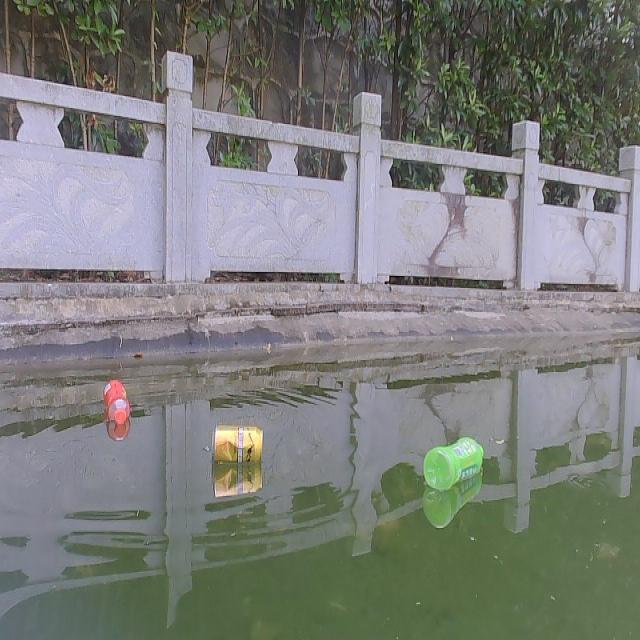Bottle: (421, 437, 486, 494), (98, 377, 133, 432)
Can: (210, 426, 271, 466)
